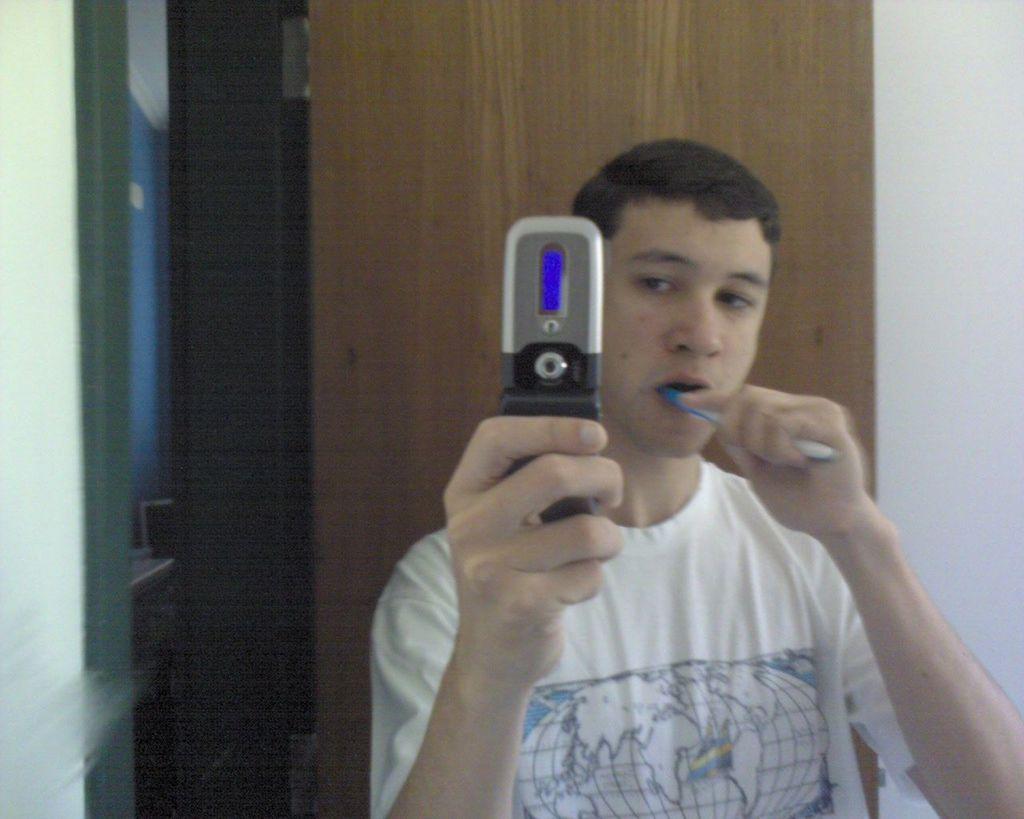Human_hand: (439, 411, 625, 690), (718, 374, 888, 542)
